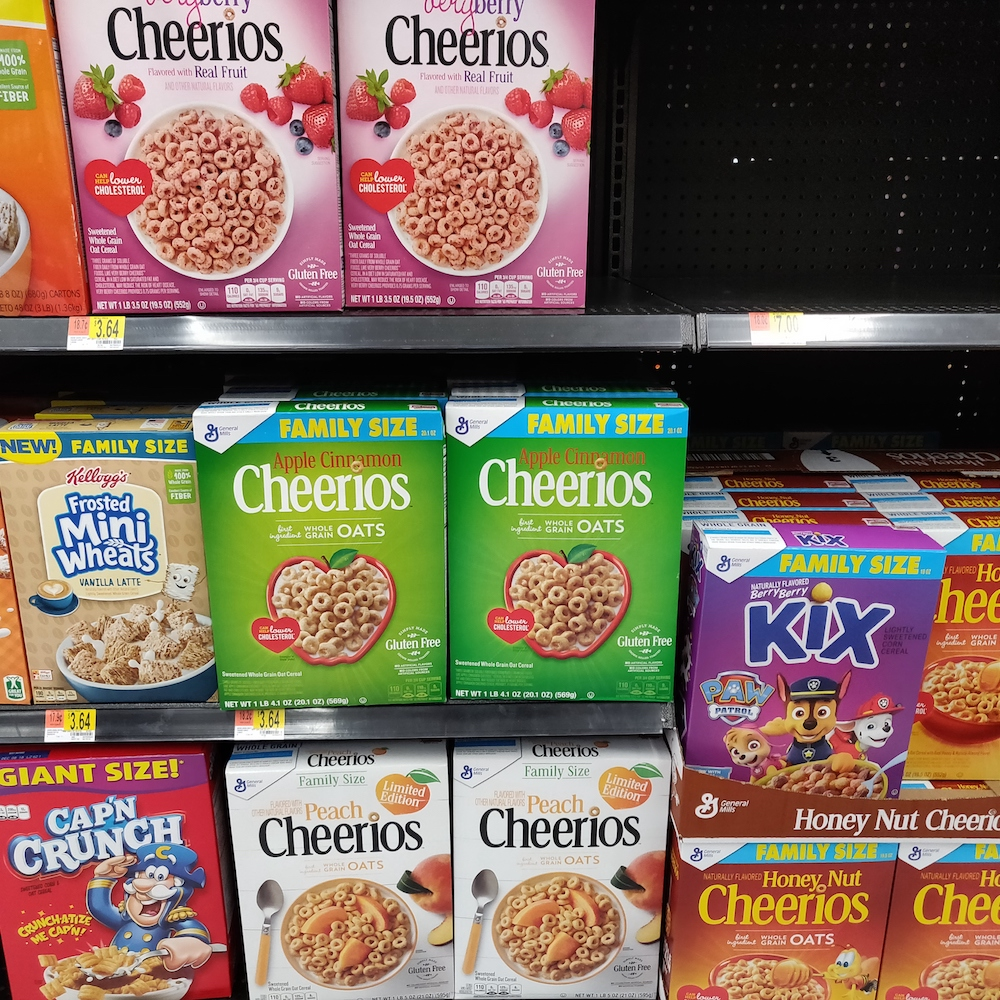Kix Berry -568919964: (698, 550, 917, 800)
